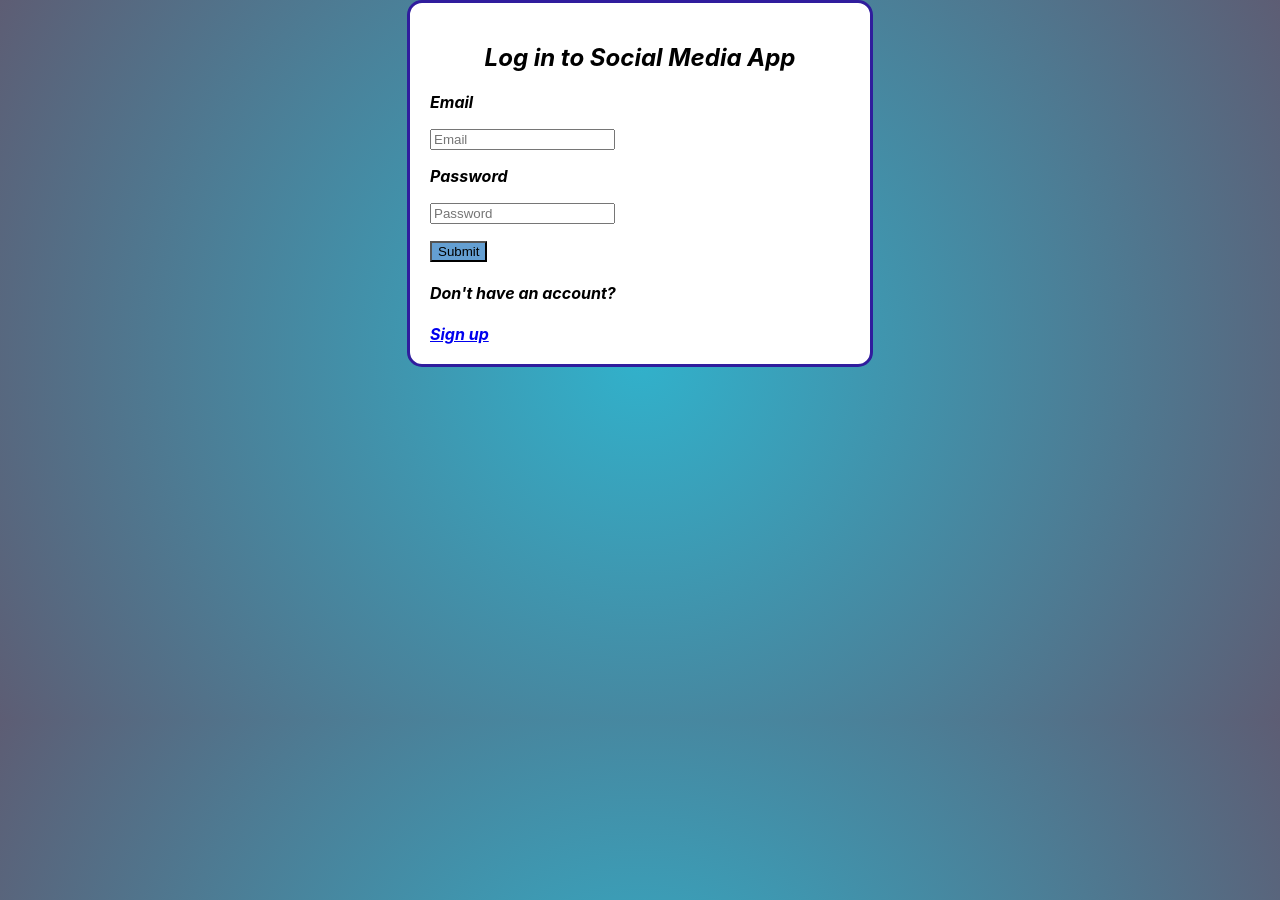
Test case: Test for LogIn Component › Email empty display Email is required!
This screenshot has width=1280, height=900.
Click the button. click: (459, 251)
box: x1=430 y1=241 x2=488 y2=262
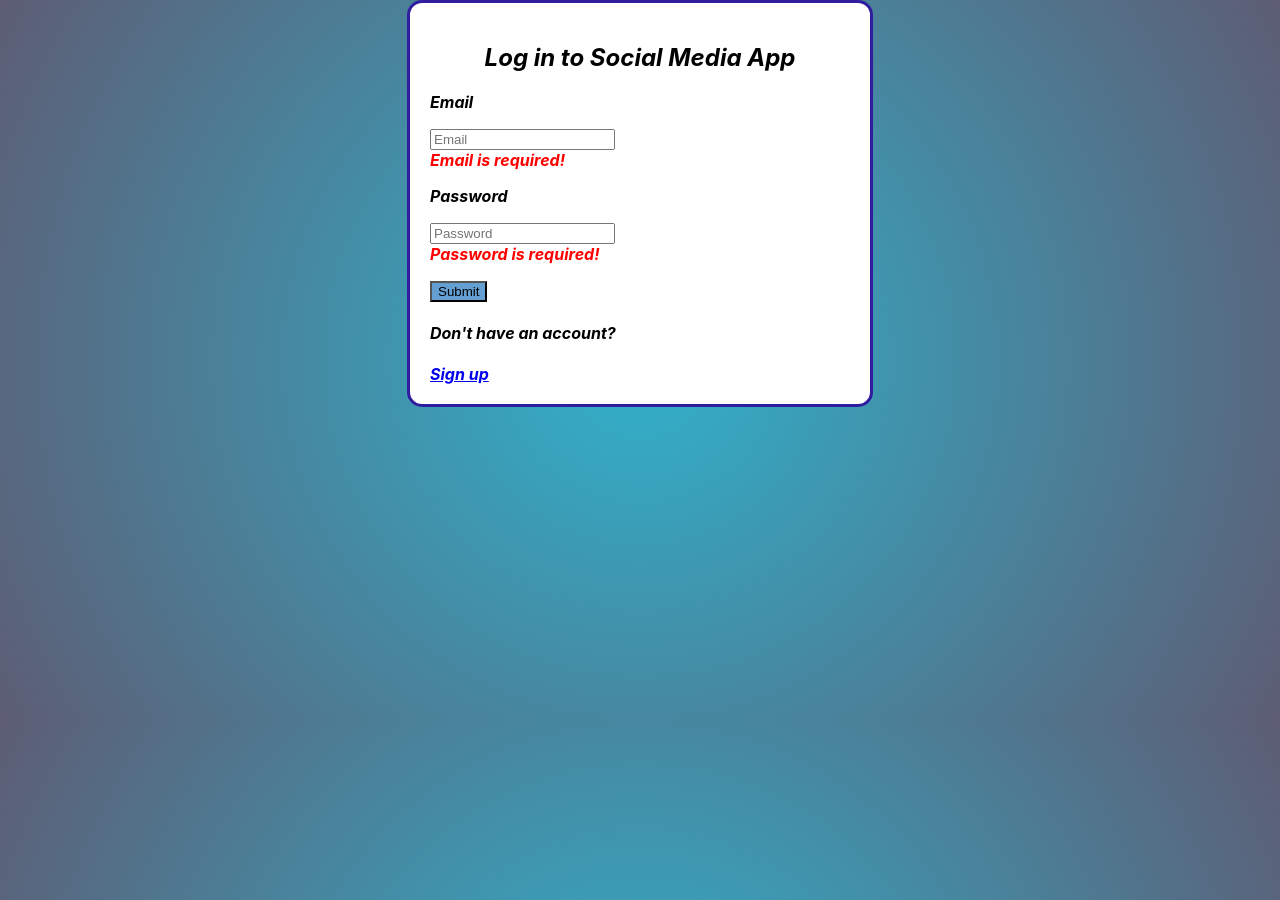
Expected: the text "Email is required!" is shown, x1=430 y1=150 x2=565 y2=170
